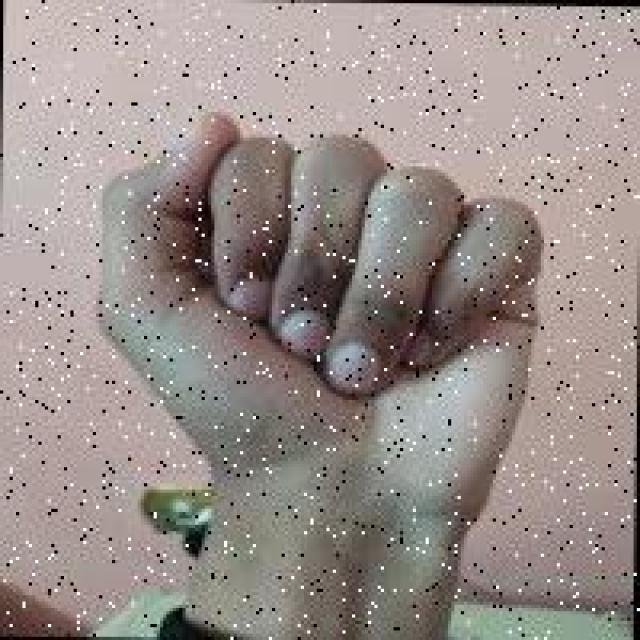A: (93, 99, 550, 493)
